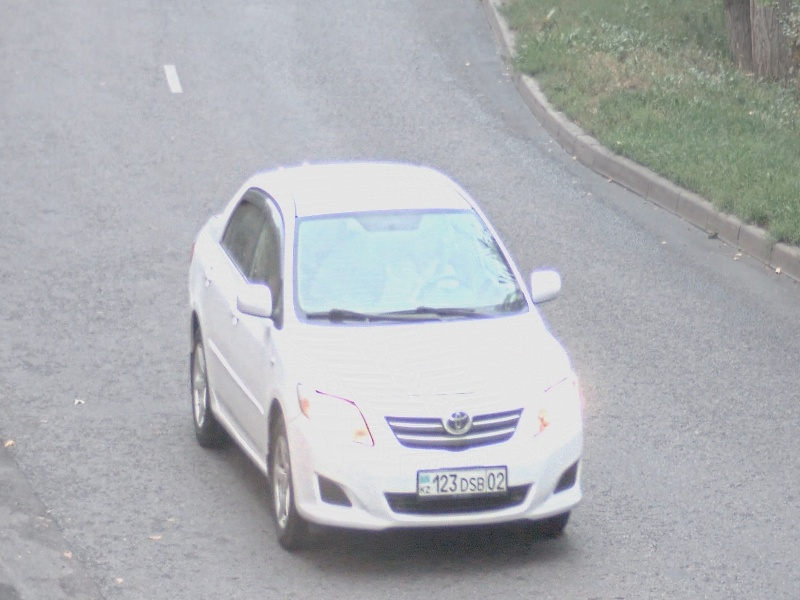plate: (417, 465, 508, 498)
